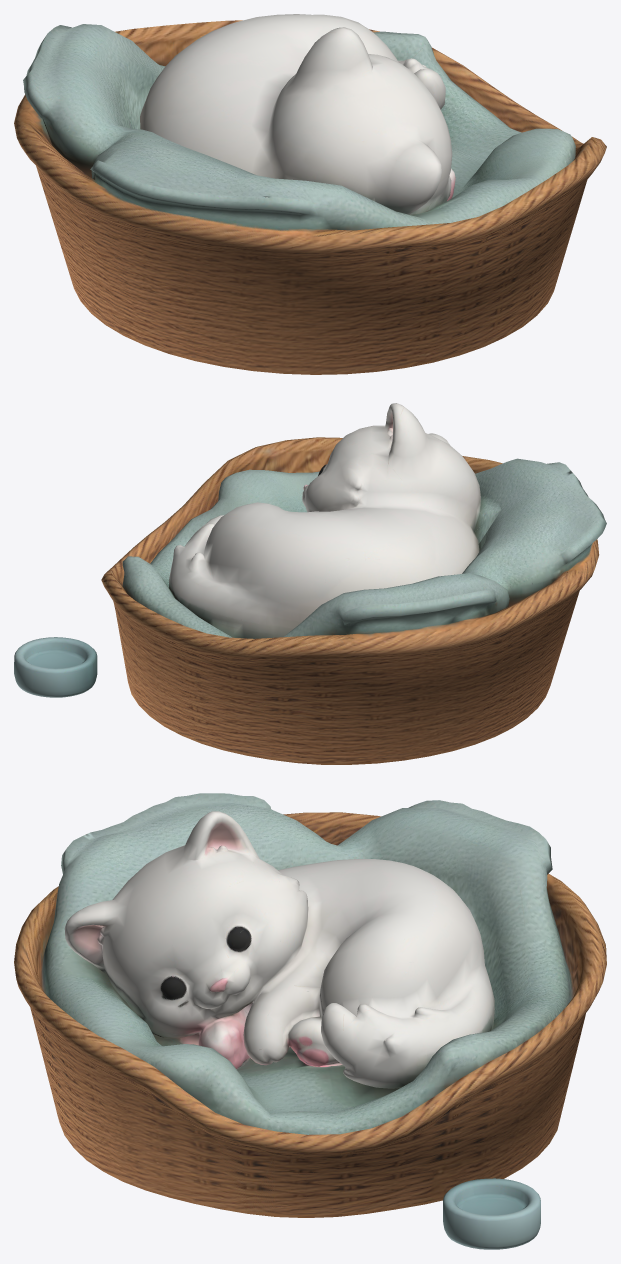
Rendered from figurine-v2-clinic-helper.glb.
The picture shows the model from 3 angles, top to bottom: view 1: azimuth 30°, elevation 25°; view 2: azimuth 150°, elevation 25°; view 3: azimuth 270°, elevation 25°; orthographic projection. The views are drawn at different scales.
Parts seen in each view (by area): view 1: tripo_node_ba52ca3b-9f31-4f4a-a660-ee8c498533df; view 2: tripo_node_ba52ca3b-9f31-4f4a-a660-ee8c498533df; view 3: tripo_node_ba52ca3b-9f31-4f4a-a660-ee8c498533df.
Boxes of the visible parts, bbox=[...] form: tripo_node_ba52ca3b-9f31-4f4a-a660-ee8c498533df: bbox=[14, 14, 606, 374]; tripo_node_ba52ca3b-9f31-4f4a-a660-ee8c498533df: bbox=[14, 403, 606, 764]; tripo_node_ba52ca3b-9f31-4f4a-a660-ee8c498533df: bbox=[14, 793, 606, 1249].
Bounding box in the file's own units: 0.9677 × 0.481 × 0.8932.
1 material, 1 textured.
